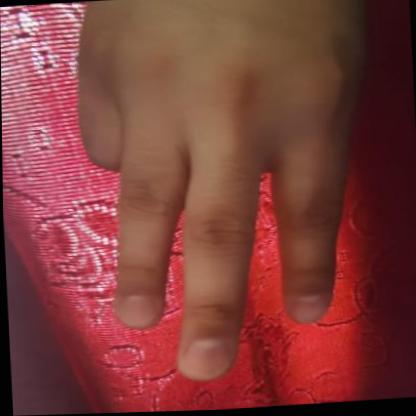M: (42, 0, 374, 393)
